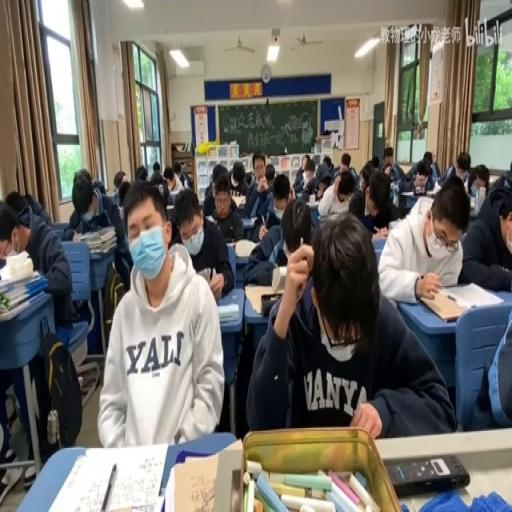calculator: (43, 442, 168, 509), (171, 453, 223, 512), (441, 282, 504, 308), (0, 287, 46, 320), (0, 268, 40, 294), (234, 236, 256, 258), (217, 302, 238, 322), (246, 194, 260, 220), (371, 226, 389, 240), (230, 194, 244, 208), (468, 202, 480, 215), (169, 189, 180, 202), (306, 195, 319, 206), (427, 184, 441, 194), (114, 202, 124, 213), (71, 232, 83, 240), (226, 240, 235, 249), (249, 216, 256, 223), (166, 204, 172, 210)
paper: (250, 212, 452, 438), (0, 195, 72, 488), (66, 169, 131, 299), (171, 184, 232, 298), (464, 291, 510, 431), (460, 170, 512, 292), (360, 168, 402, 234), (253, 170, 292, 238), (316, 165, 359, 220), (400, 151, 438, 199), (8, 188, 49, 226), (438, 150, 472, 188), (222, 158, 250, 199), (146, 165, 172, 208), (202, 160, 227, 200), (293, 155, 315, 195), (175, 158, 193, 188), (113, 169, 129, 199), (379, 145, 395, 174), (252, 155, 266, 183), (466, 168, 478, 196), (498, 165, 512, 188), (264, 164, 274, 188), (134, 164, 148, 180), (92, 178, 106, 193), (430, 158, 440, 179), (340, 152, 350, 172), (347, 165, 357, 185), (478, 179, 488, 198), (422, 149, 431, 165), (370, 155, 379, 169), (288, 184, 295, 200), (322, 155, 331, 165), (301, 155, 307, 169), (153, 160, 160, 170), (430, 152, 434, 159)
person: (386, 454, 470, 496), (259, 292, 280, 316), (270, 263, 286, 292), (197, 264, 211, 282)
